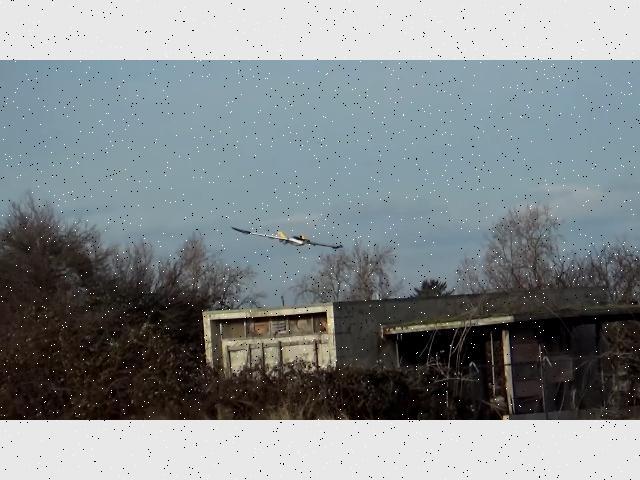Anti-Drone: (232, 226, 342, 250)
